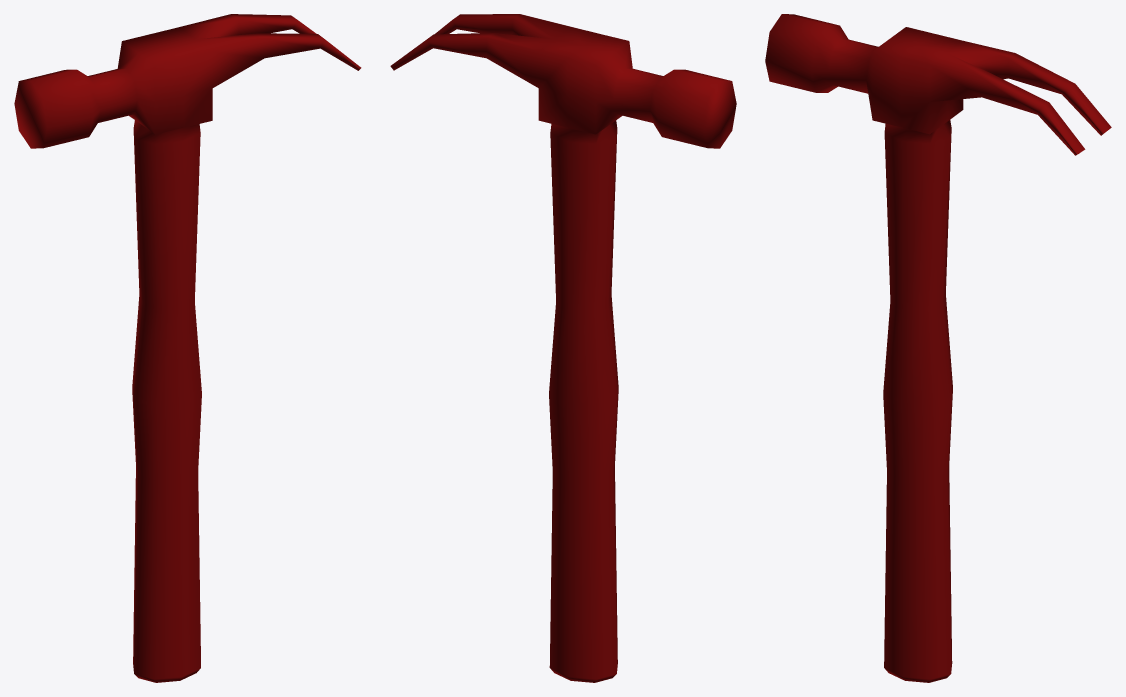
File: hammer.obj
3 renders of one model, left to right at view 1: azimuth 30°, elevation 25°; view 2: azimuth 150°, elevation 25°; view 3: azimuth 330°, elevation 25°, orthographic.
Parts seen in each view (by area): view 1: pCylinder1; view 2: pCylinder1; view 3: pCylinder1.
Part boxes in pixels (x1,y1,x2,y2): pCylinder1: [14, 14, 361, 682]; pCylinder1: [390, 14, 736, 682]; pCylinder1: [765, 14, 1111, 682].
Bounding box in the file's own units: 9.49 × 18.25 × 1.78.
